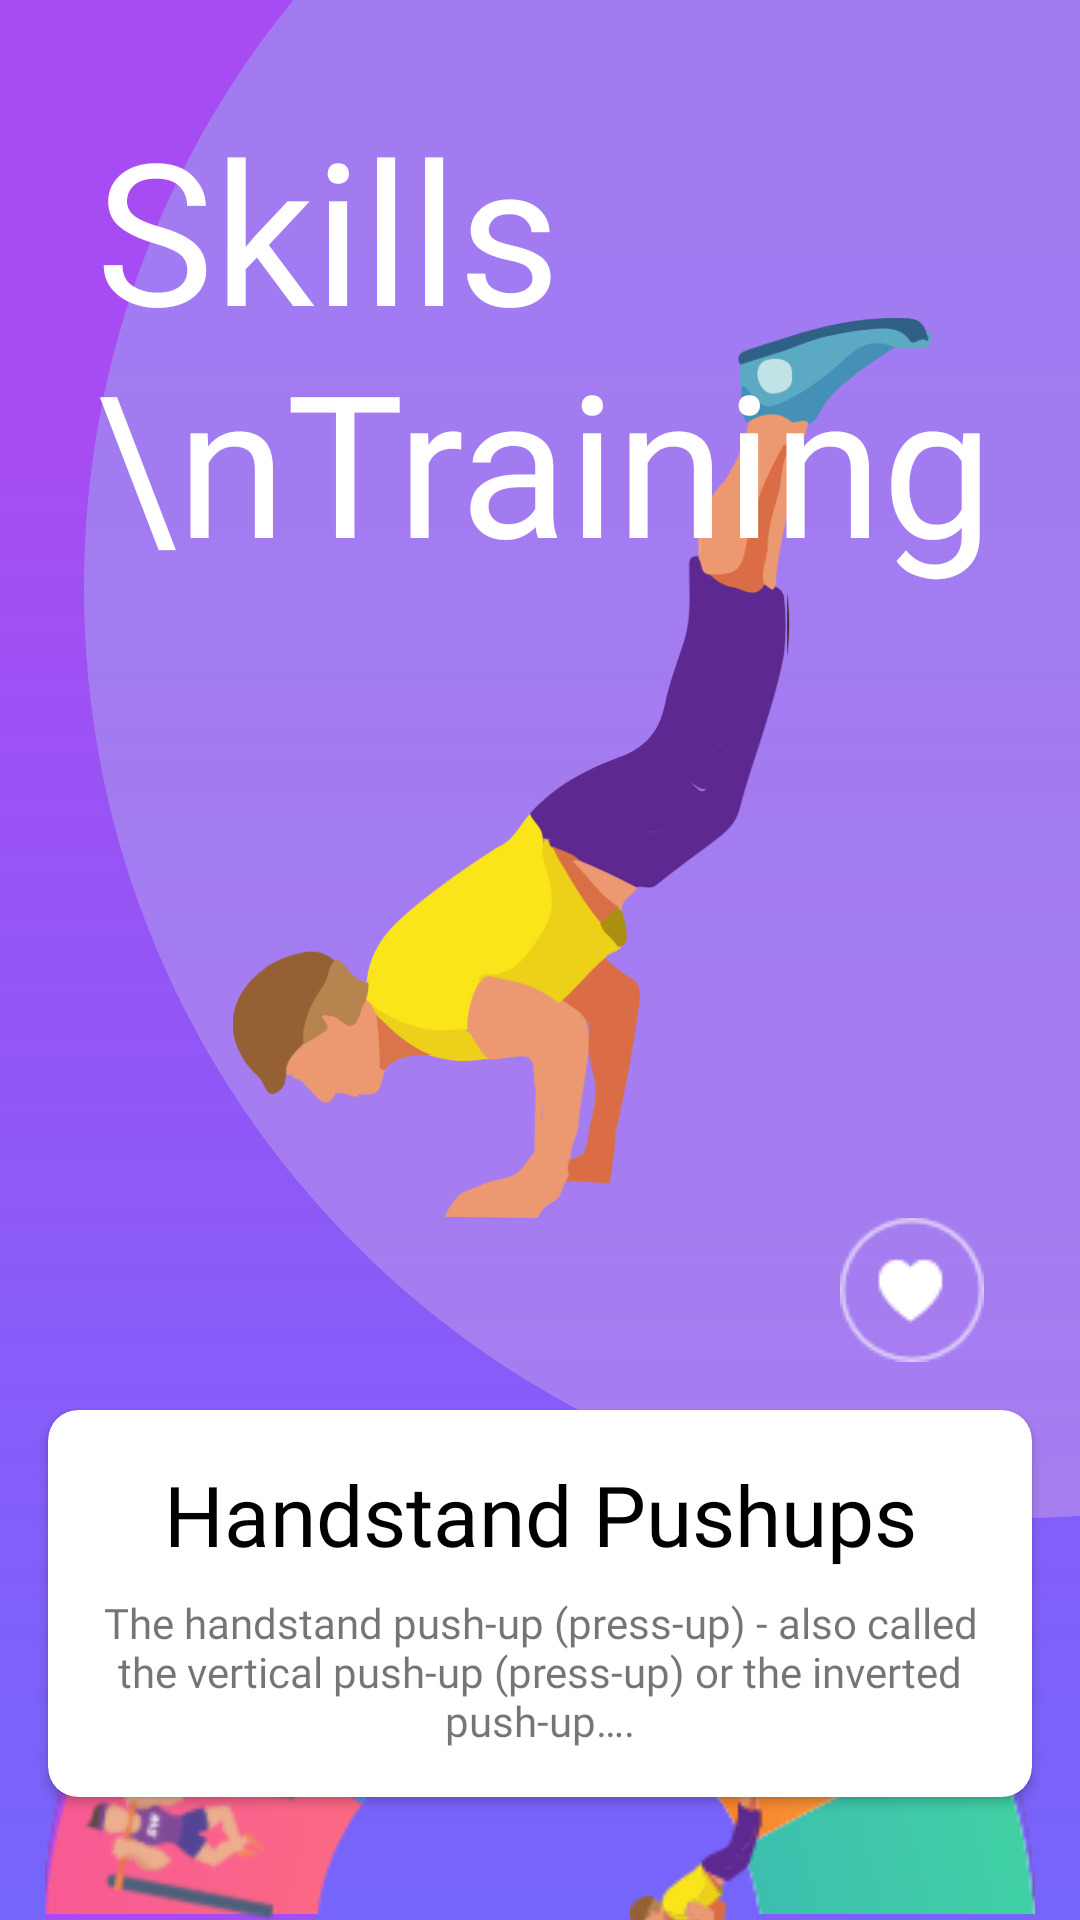

Locate icon controls on the screen. Image size 1080×1920, boxes as Rect(x1, y1, x2, y2).
fav: Rect(840, 1218, 984, 1362)
